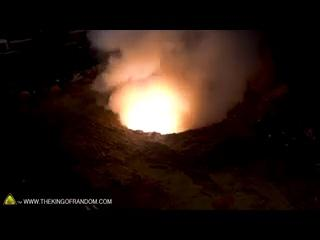Fire: (114, 67, 189, 133)
